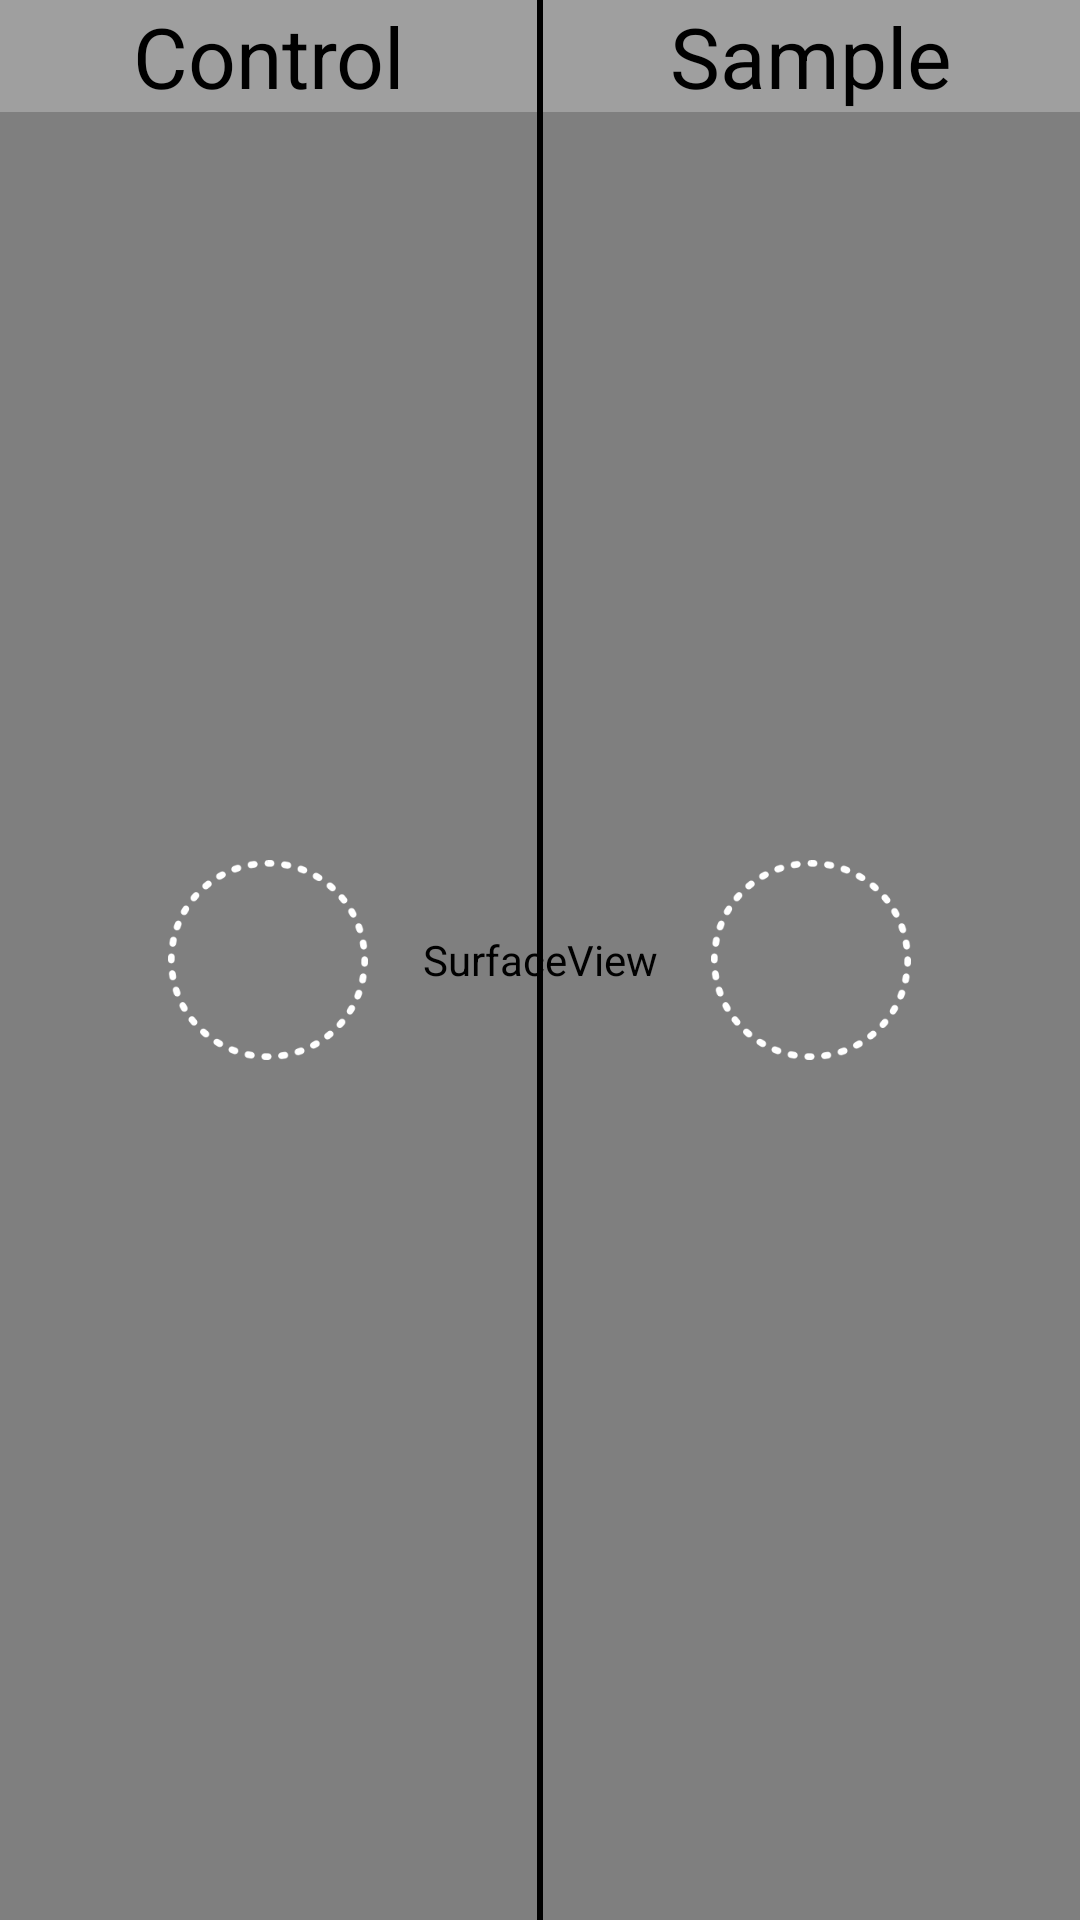

Icon click points for this 1080px x 1920px phone screenshot, format [x,y]:
circle: [268,960], [811,960]
